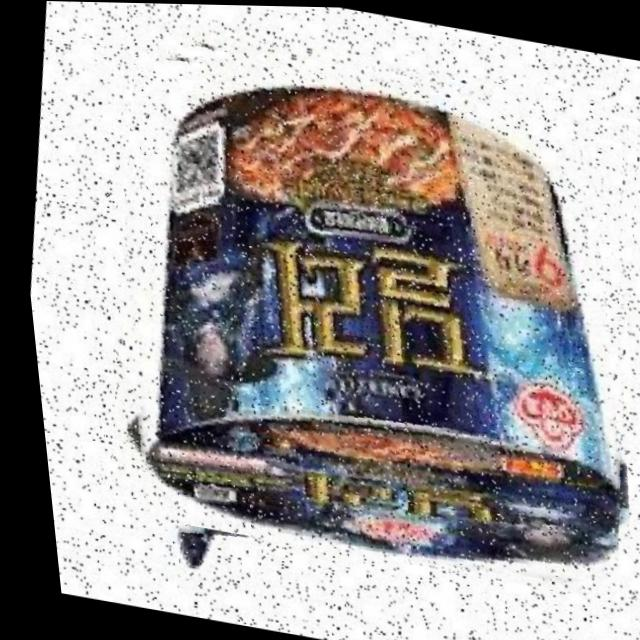Miscellaneous: (57, 9, 640, 600)
